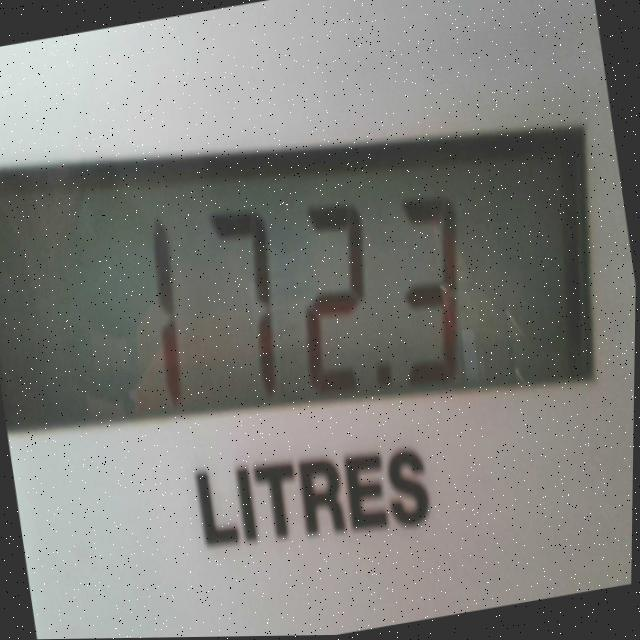.: (366, 343, 412, 406)
1: (120, 183, 211, 416)
2: (277, 193, 404, 410)
3: (374, 171, 520, 401)
7: (181, 184, 313, 409)
